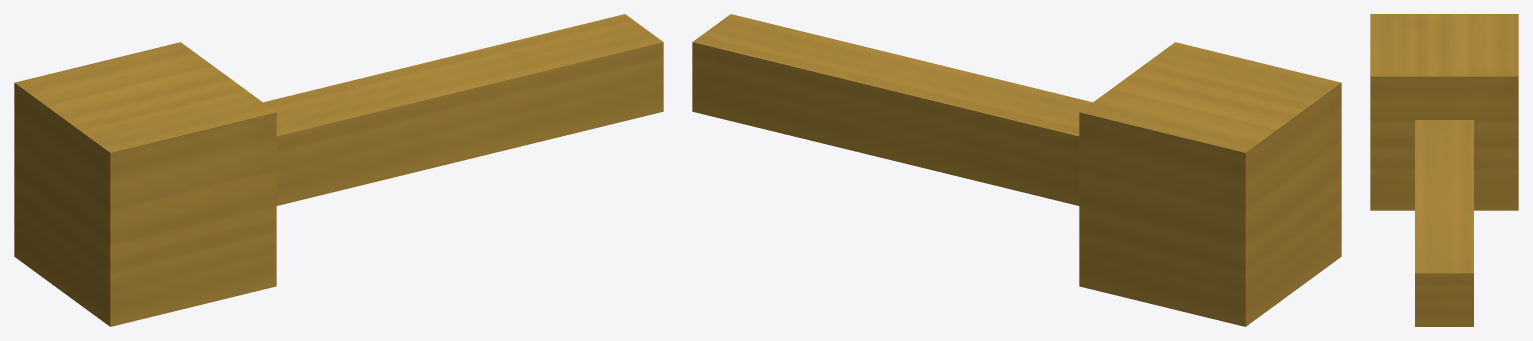
Rendered from Item_DoorHandle.fbx.
3 renders of one model, left to right at view 1: azimuth 30°, elevation 25°; view 2: azimuth 150°, elevation 25°; view 3: azimuth 270°, elevation 25°, orthographic. The views are drawn at different scales.
Visible parts, largest first — view 1: Item_DoorHandle; view 2: Item_DoorHandle; view 3: Item_DoorHandle.
Part boxes in pixels (<box>): Item_DoorHandle: <box>14,14,663,326</box>; Item_DoorHandle: <box>692,14,1341,326</box>; Item_DoorHandle: <box>1370,14,1518,326</box>.
Bounding box in the file's own units: 0.35 × 0.1 × 0.1.
2 materials, 2 textured.
